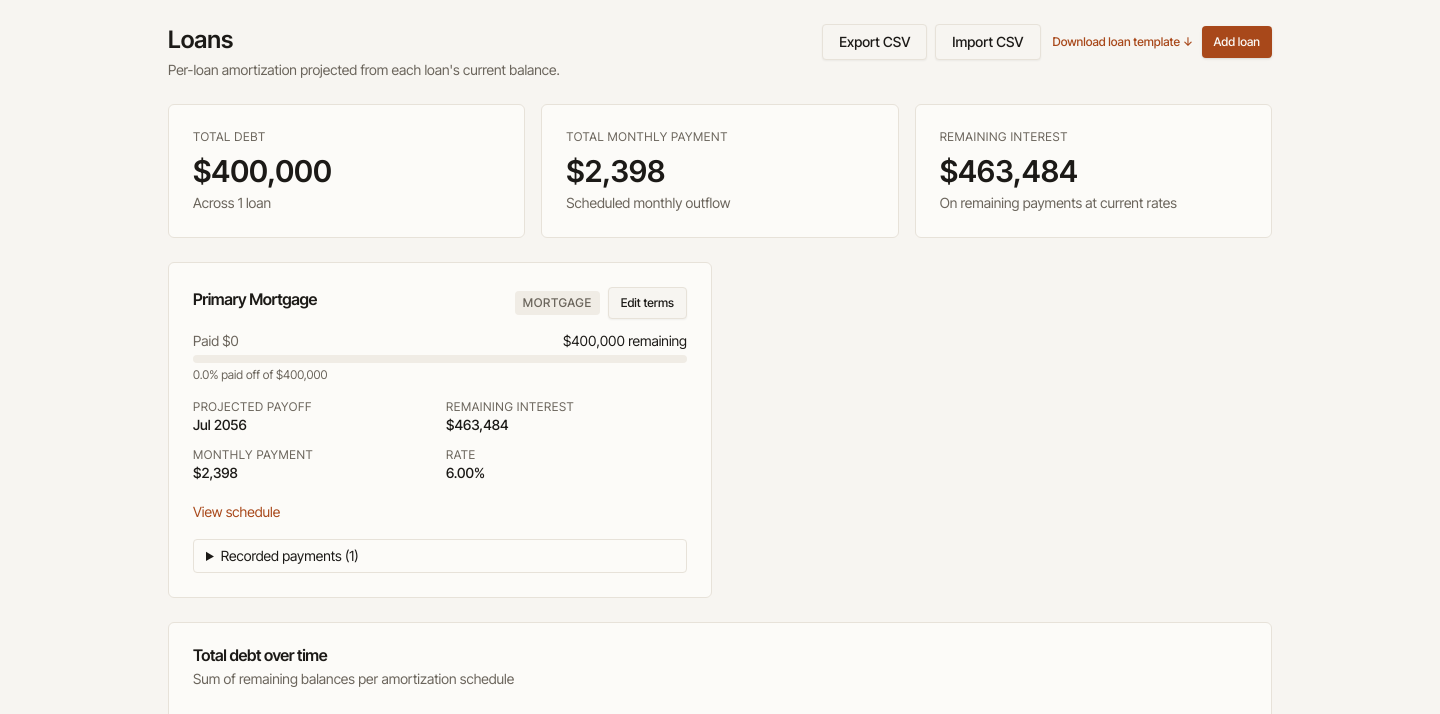
Scenario: Recorded loan payments (Wave C C8/IN-G6) › Wave C C8: recorded payments render per loan with the correction note
Click the heading "Recorded payments (1)" at (290, 556), box top-left (221, 547), bottom-right (359, 564)
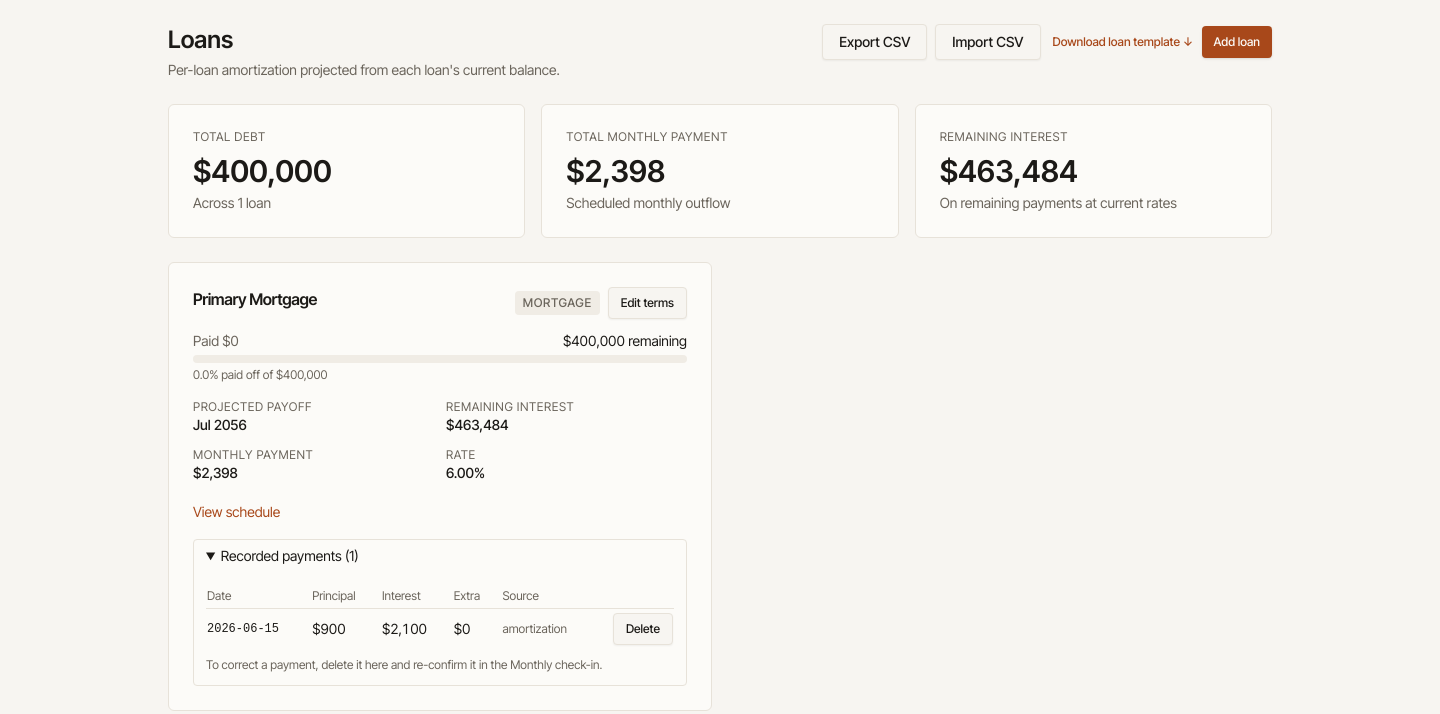
Now the text "2026-06-15" is shown, box top-left (206, 608), bottom-right (311, 649)
Now the text "$900" is shown, box top-left (311, 608), bottom-right (381, 649)
Now the text "$2,100" is shown, box top-left (381, 608), bottom-right (453, 649)
